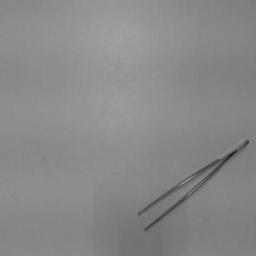Gillies Toothed Dissector: (131, 136, 253, 236)
